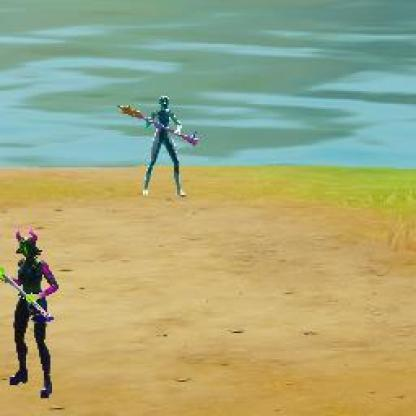dumpster: (0, 228, 60, 400), (141, 96, 187, 198)
